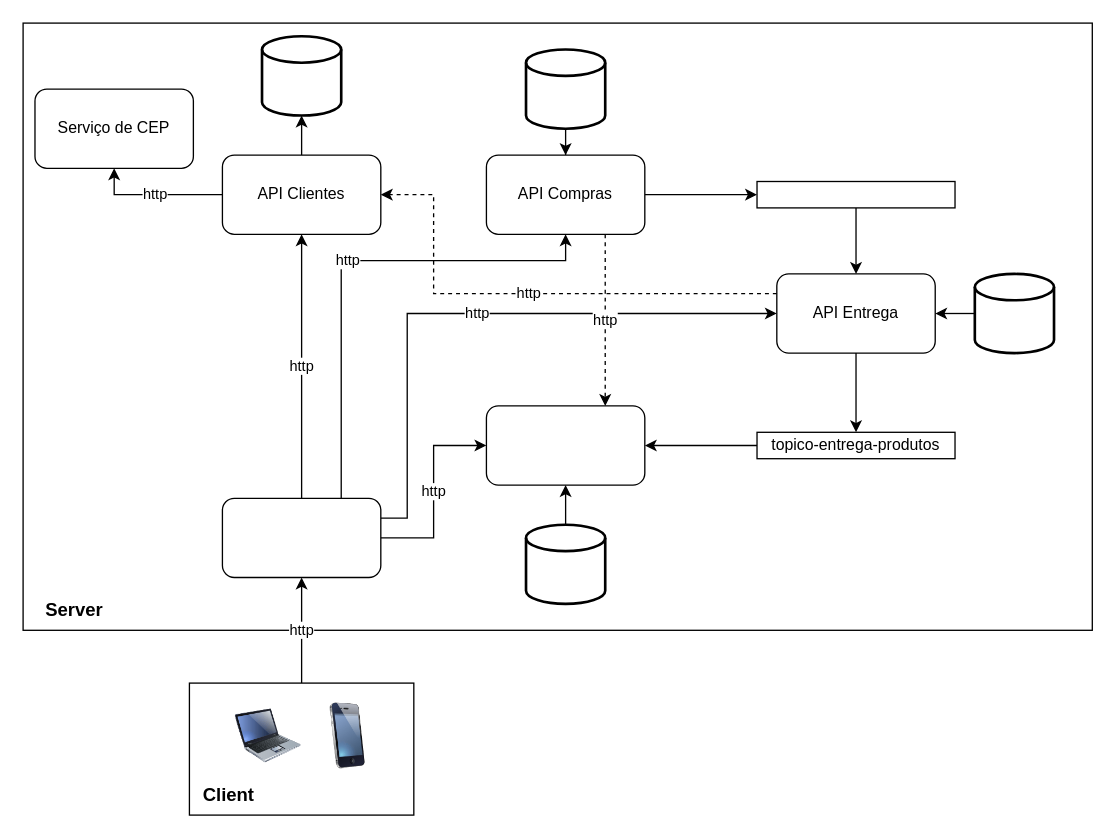
Some shapes in this 1115 by 838 pixel diagram are drawn without their labels. The shapes that lost their labels are listed below. From the top down, each one's box as (x1, y1, x2, y2) in pixels, then its label:
(756, 180, 955, 208): topico-compra-entrega
(485, 405, 645, 485): API Produtos
(221, 497, 381, 578): MIB
